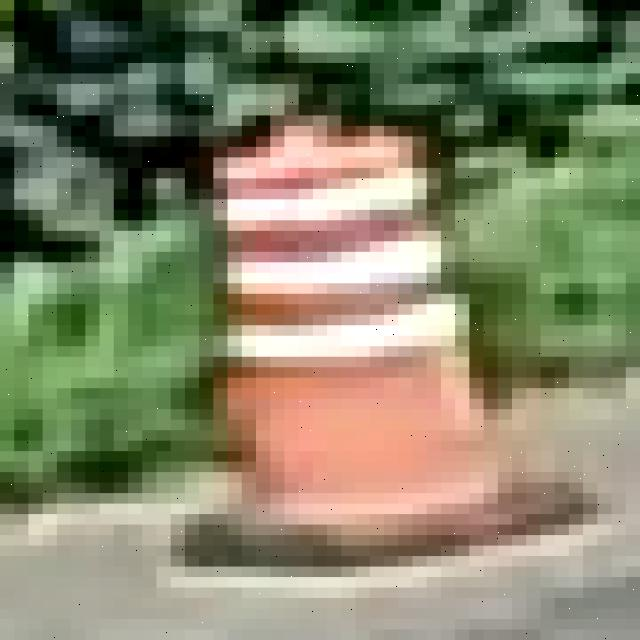big_cone: (220, 127, 477, 531)
